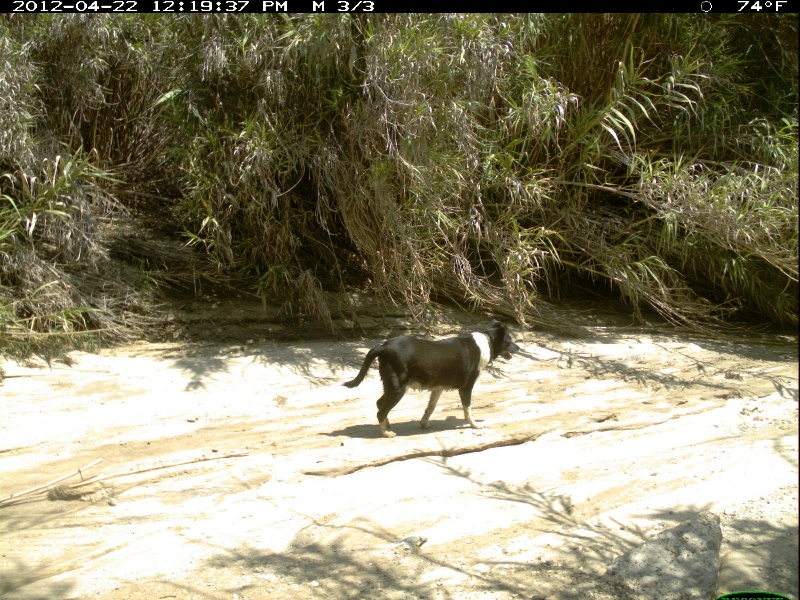dog: (344, 319, 528, 434)
